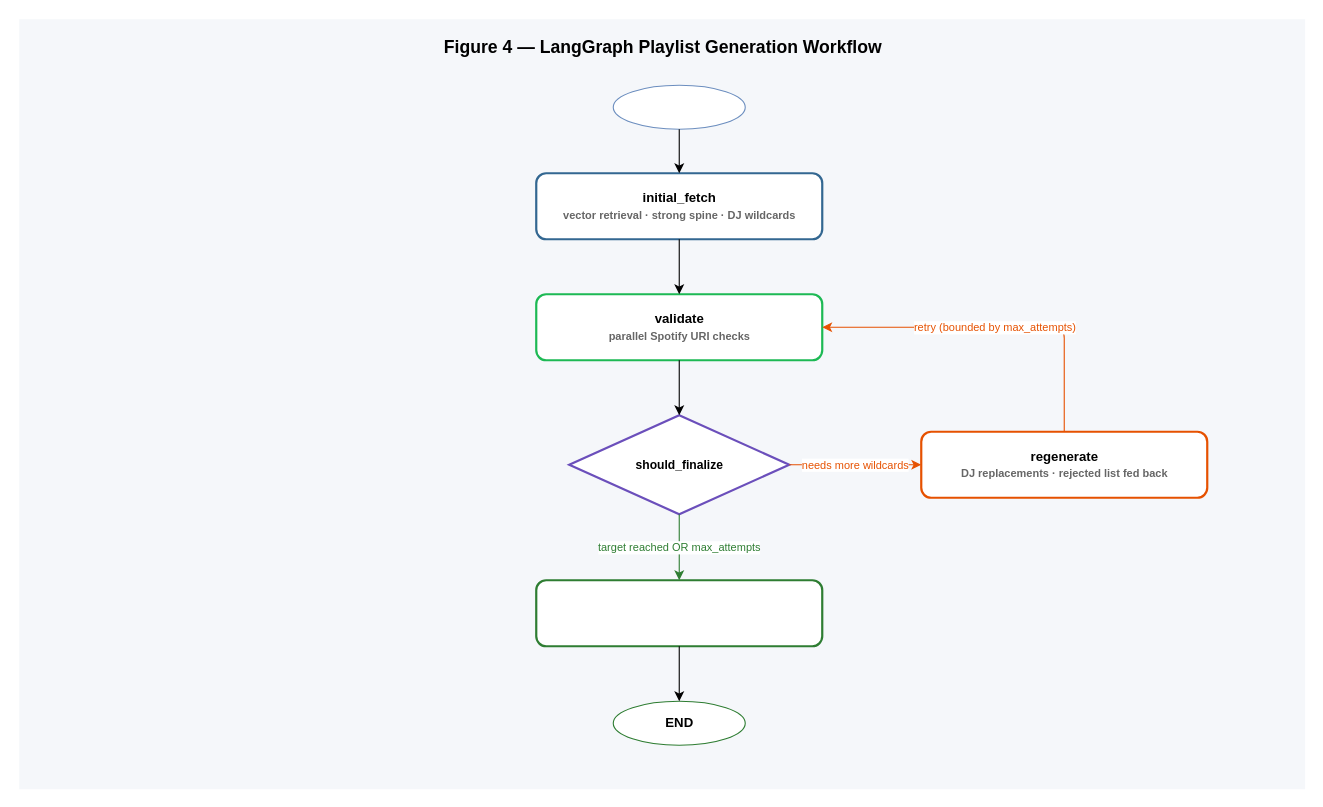
Image size: 1323x807. Some labels were removed from this diagram. Here are the shapes that lost their labels. From the top down, the centre of each, then its label:
the point at 678,106: START
the point at 679,613: merge_and_shuffle dedup · trim to target · shuffle
